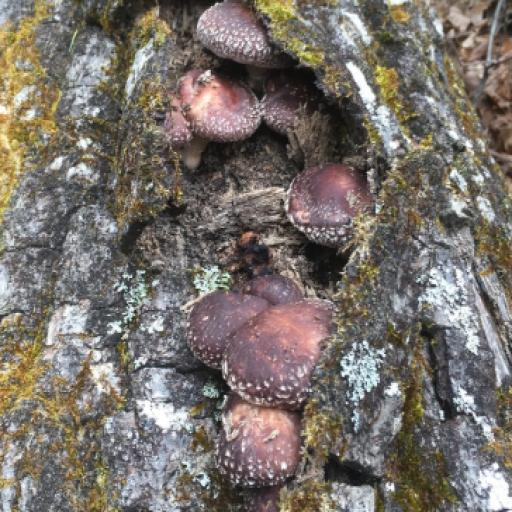Shiitake Mushroom: (155, 257, 337, 494), (161, 37, 320, 168), (284, 165, 380, 254), (189, 0, 287, 87)
